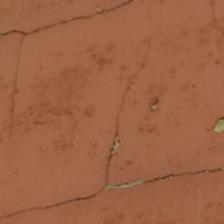Crack: (43, 64, 109, 158), (87, 0, 134, 130), (101, 125, 157, 165)
